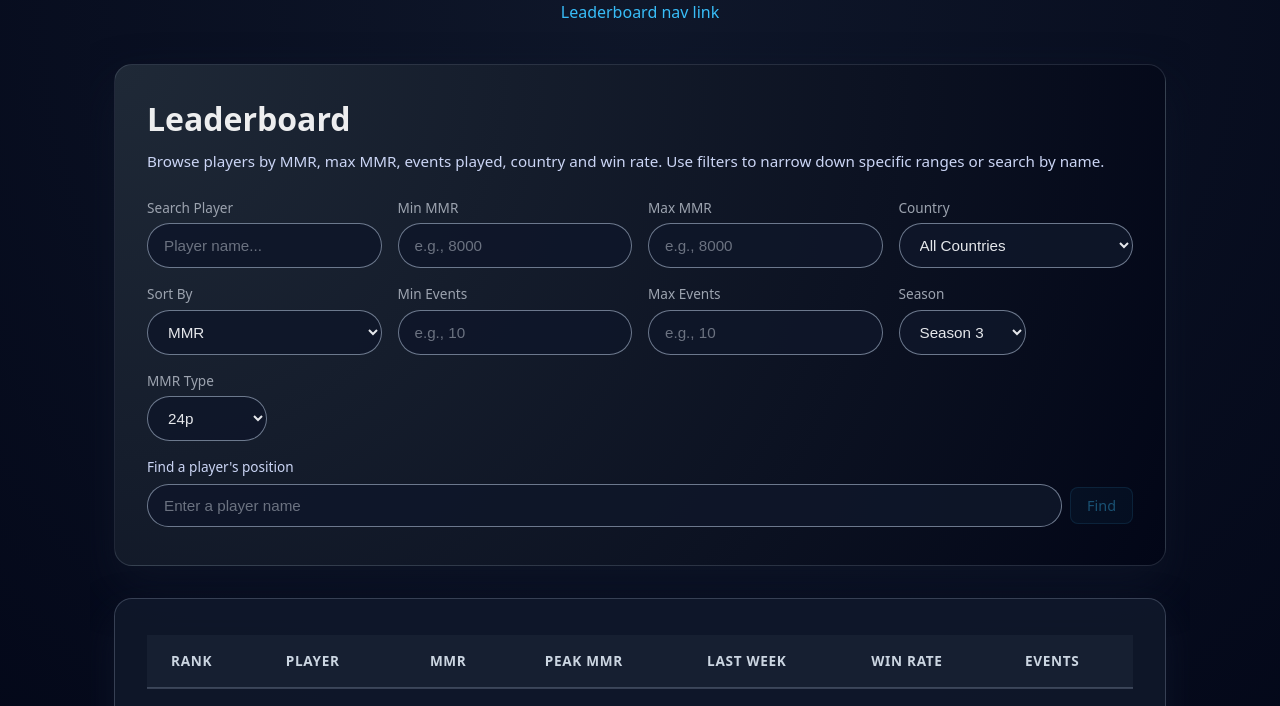
it: Leaderboard extras › says when the player isn't on the ladder
Type "Nobody" into the dropdown labelled "Find a player's position" at coordinates (605, 505), box [147,484,1062,526]
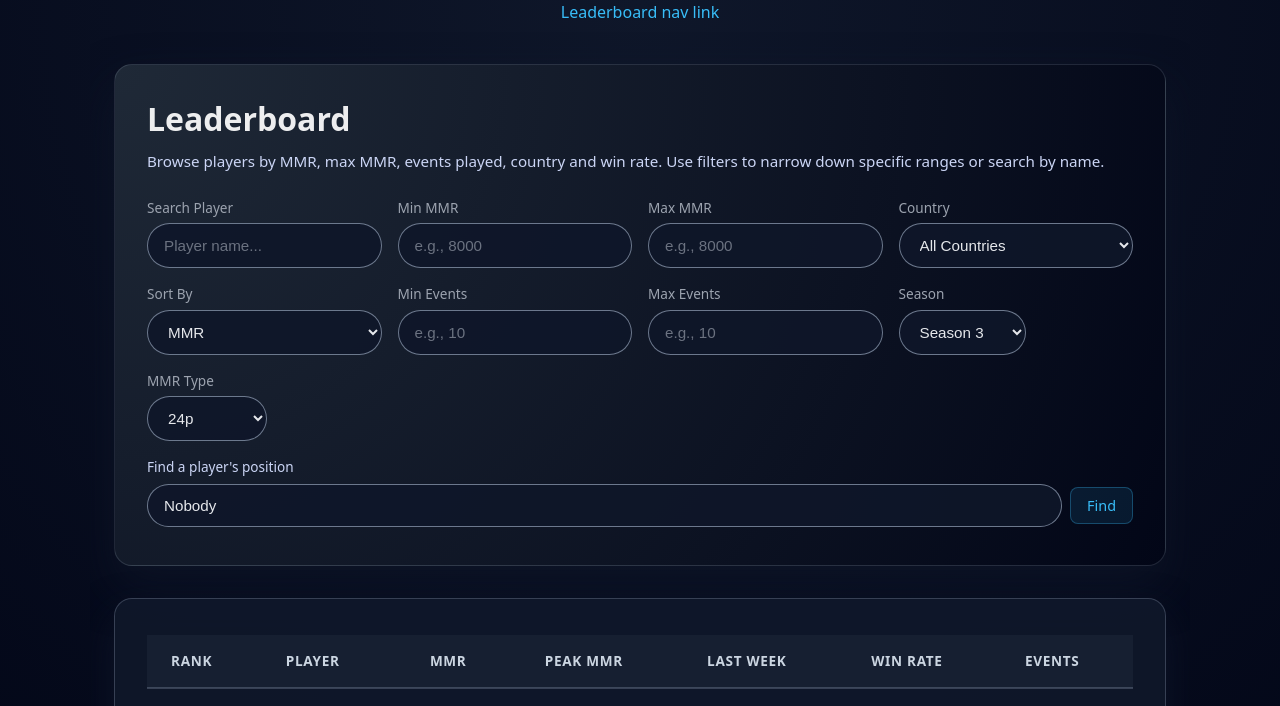
Click the button "Find" at coordinates (1102, 505), box [1070,486,1133,524]
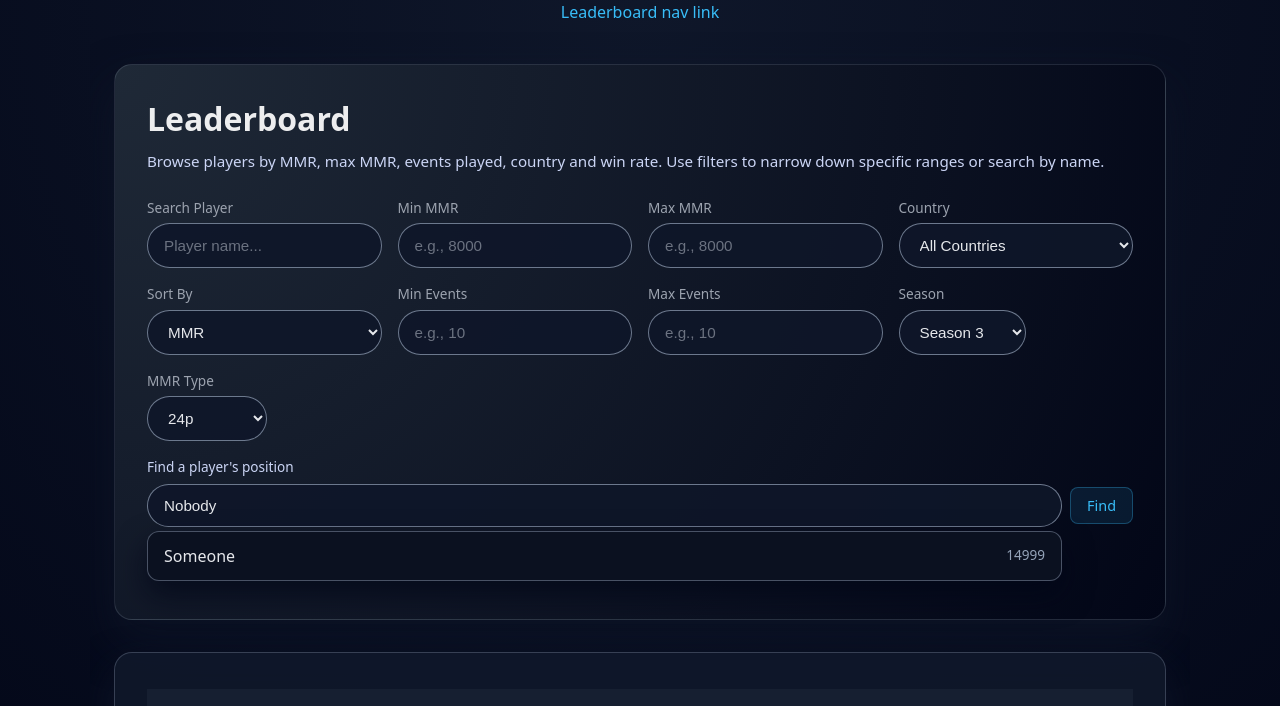
expect the message reads "Nobody isn't on this ladder": met, box [147,546,329,565]
